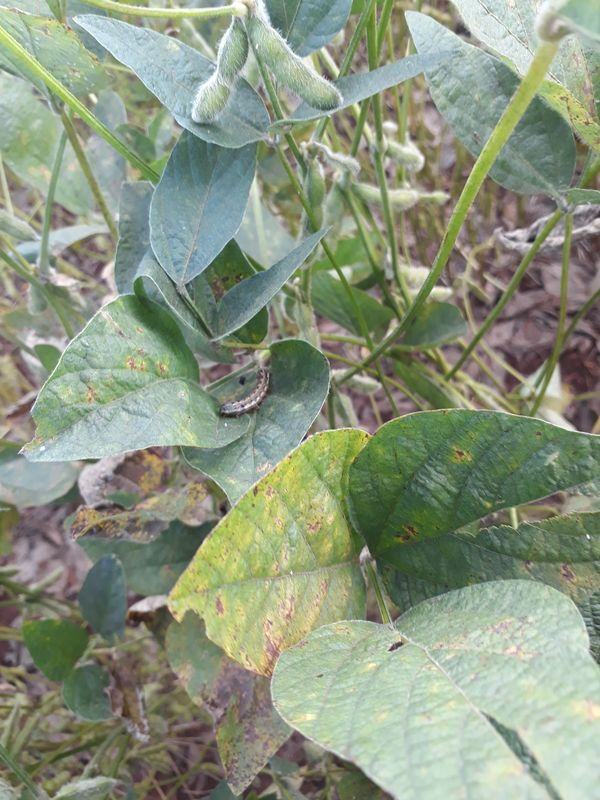Spodoptera_albula: (213, 363, 274, 420)
